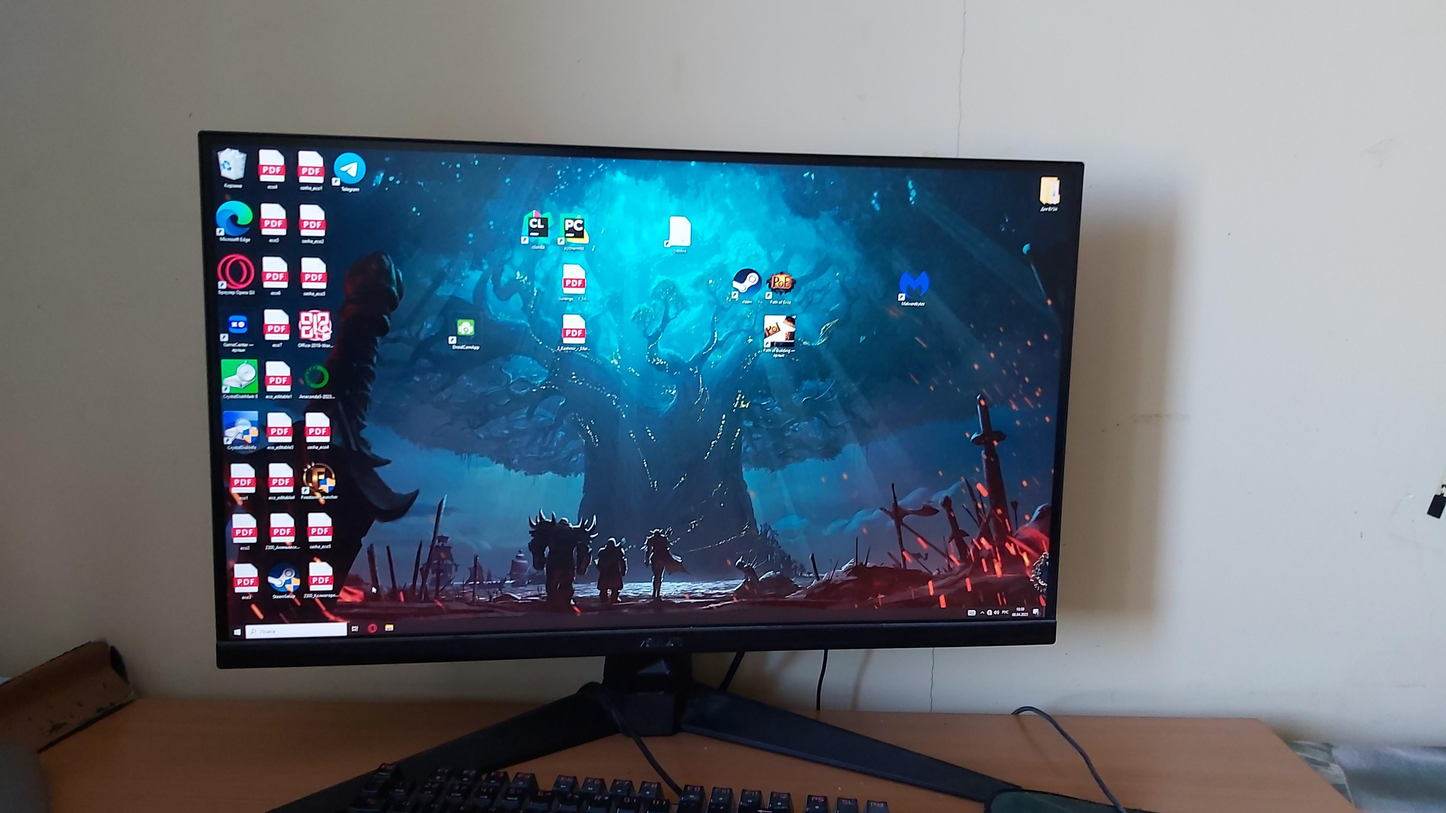monitor: (197, 128, 1086, 671)
